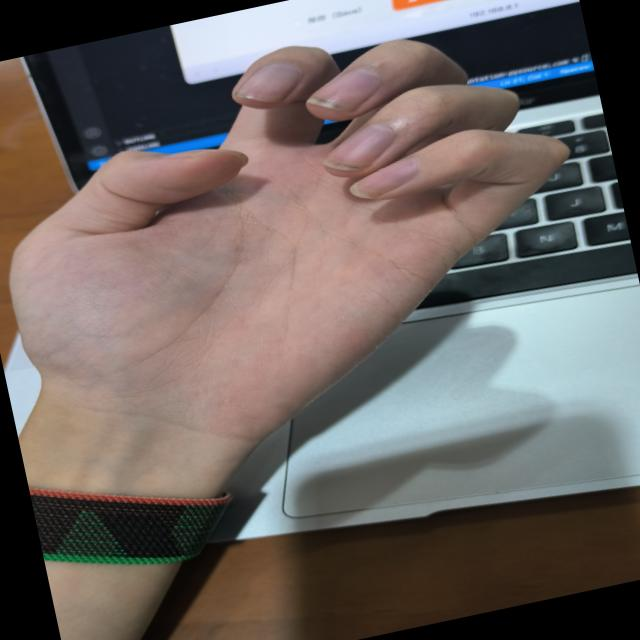Nail: (324, 123, 396, 170), (306, 67, 381, 111), (351, 157, 419, 198), (236, 63, 301, 101), (165, 149, 235, 158)
